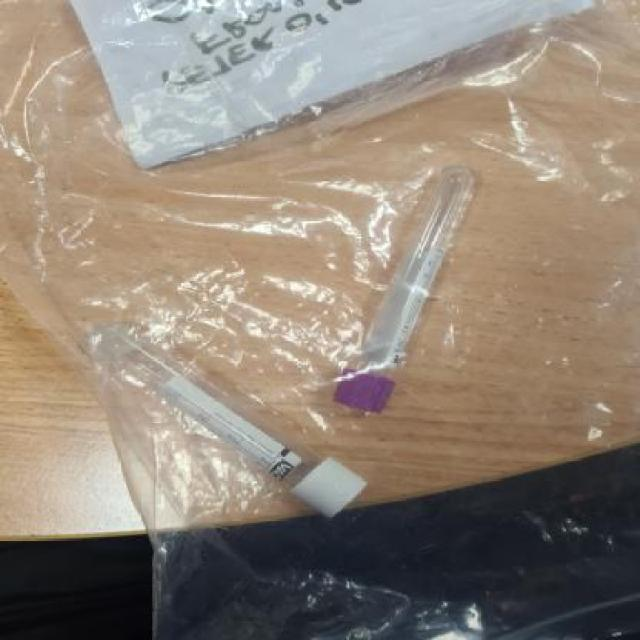Experimental-tube: (98, 322, 371, 520), (335, 166, 479, 412)
